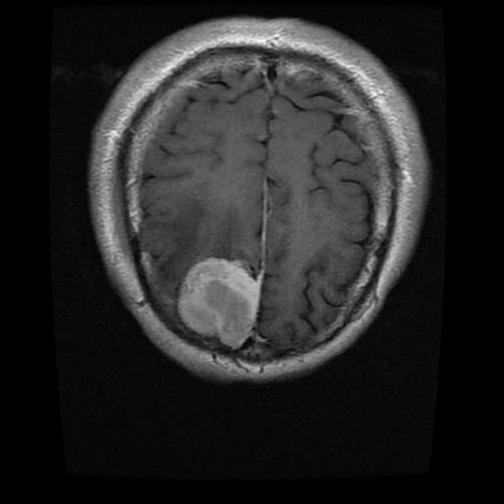Tumour-Meningioma: (153, 248, 294, 353)
